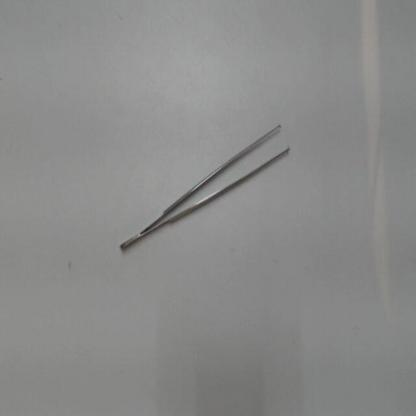Gillies Toothed Dissector: (115, 112, 300, 256)
